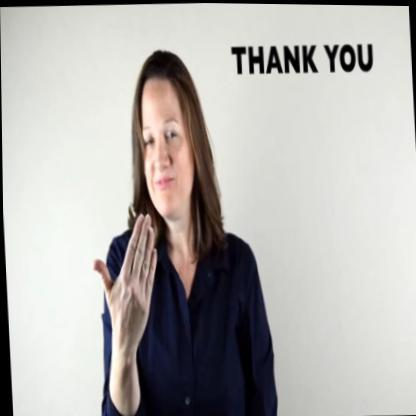ThankYou: (82, 46, 247, 373)
